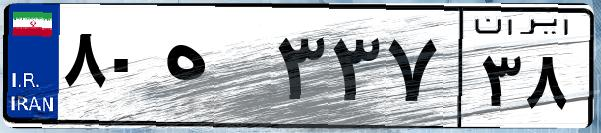0: (110, 28, 158, 98)
3: (270, 28, 330, 110), (330, 28, 385, 110), (475, 38, 525, 113)
7: (385, 28, 445, 110)
8: (57, 26, 110, 100), (525, 38, 570, 115)
ه: (158, 20, 270, 120)
